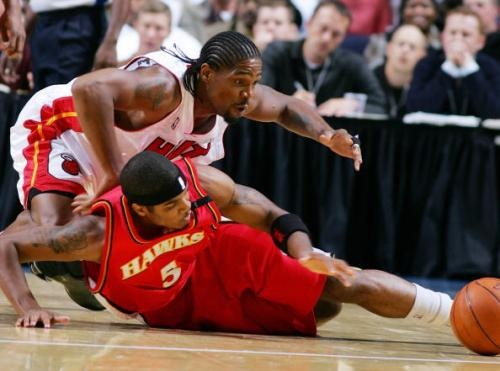falling: (5, 140, 493, 346)
